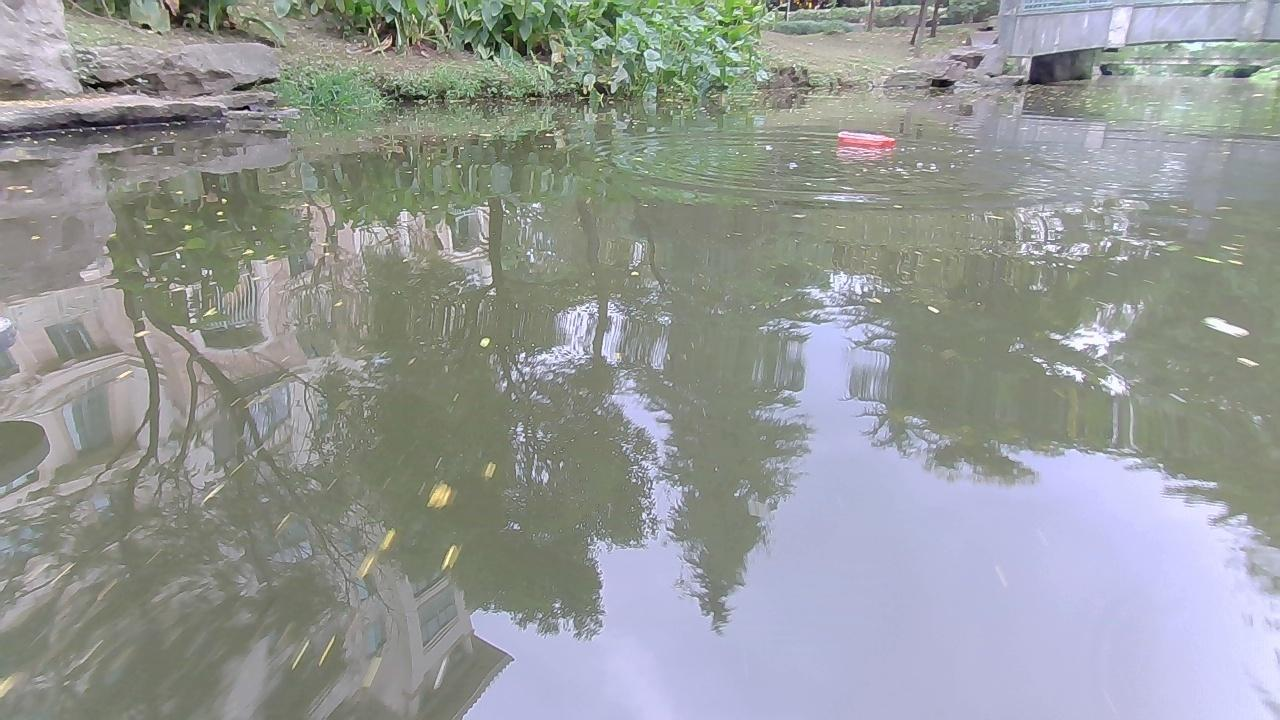bottle: (837, 129, 895, 148)
